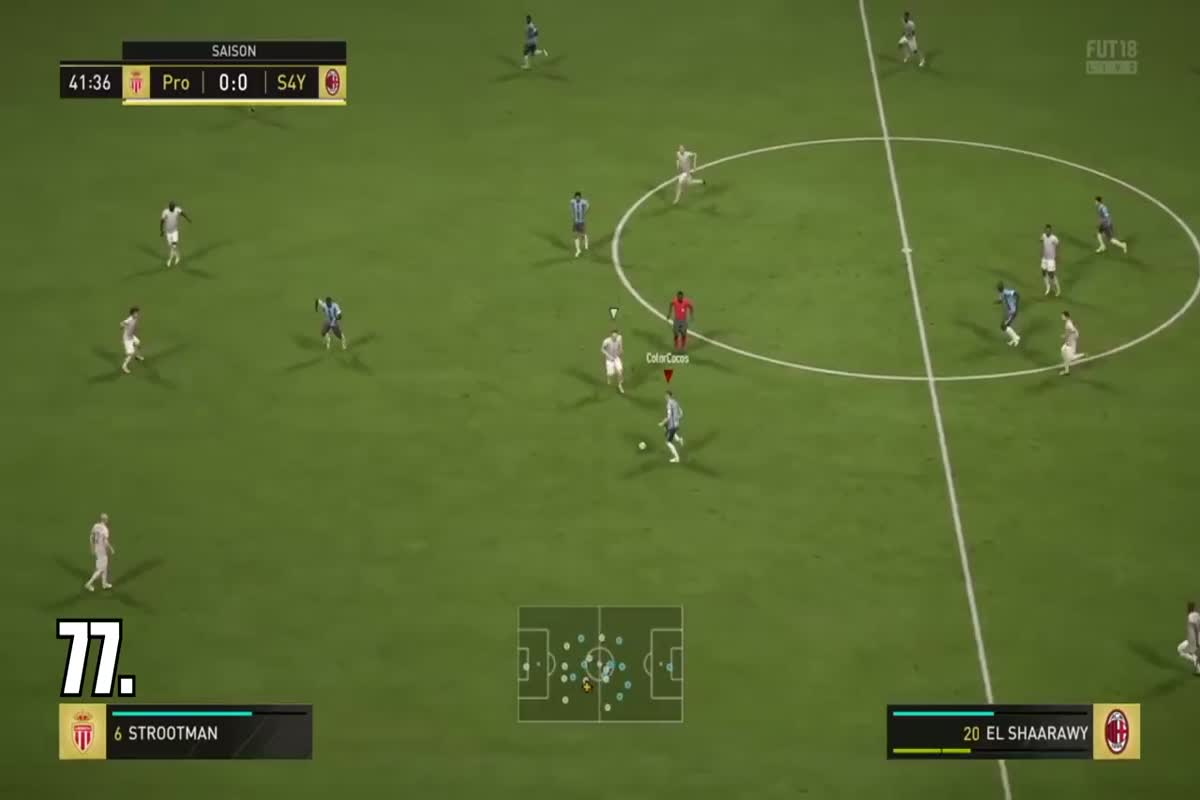ball: (620, 432, 662, 463)
